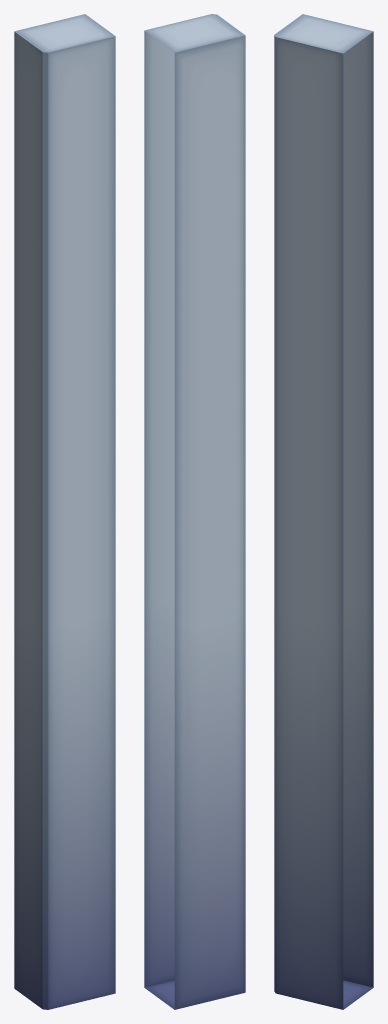
File: wall3_right_low.fbx
3 renders of one model, left to right at view 1: azimuth 30°, elevation 25°; view 2: azimuth 210°, elevation 25°; view 3: azimuth 330°, elevation 25°, orthographic.
Visible parts, largest first — view 1: right_wall_low; view 2: right_wall_low; view 3: right_wall_low.
Part boxes in pixels (left/top/right/bottom): right_wall_low: left=14, top=14, right=115, bottom=1009; right_wall_low: left=144, top=14, right=245, bottom=1009; right_wall_low: left=274, top=14, right=373, bottom=1009.
Bounding box in the file's own units: 202 × 2600 × 150.
